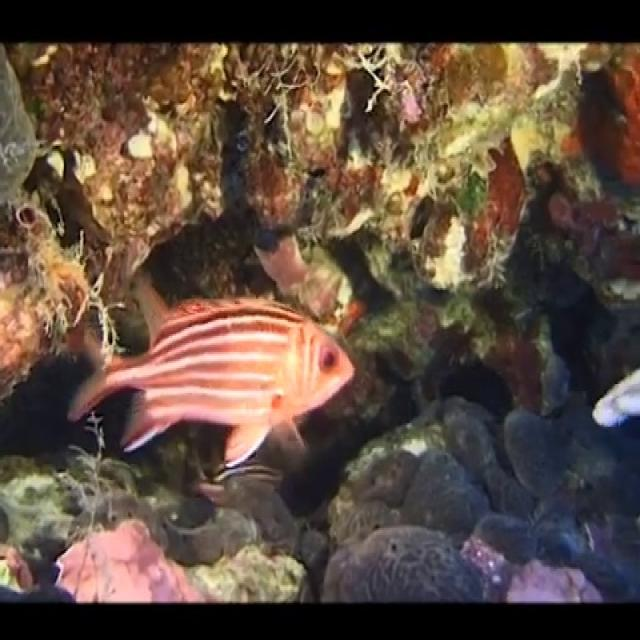Asker Baligi: (65, 277, 356, 475)
